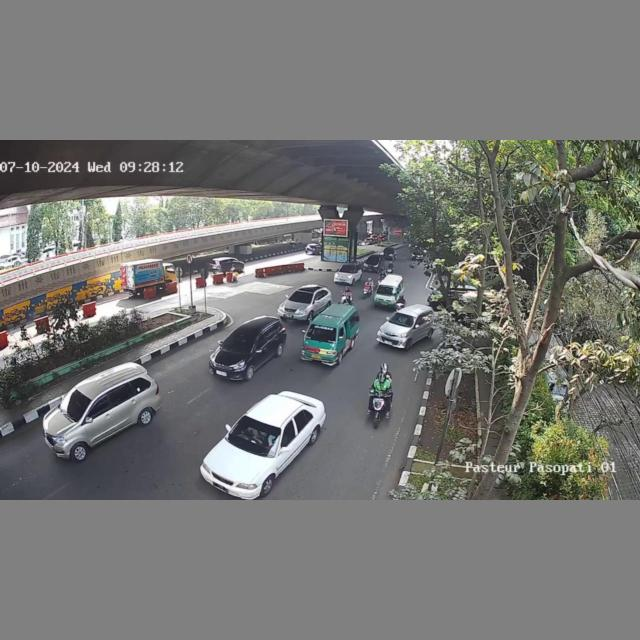windshield: (228, 412, 281, 457), (53, 389, 94, 422), (304, 322, 341, 343), (221, 334, 255, 354), (390, 312, 418, 328), (287, 289, 316, 303), (378, 285, 397, 294), (339, 265, 355, 273)
